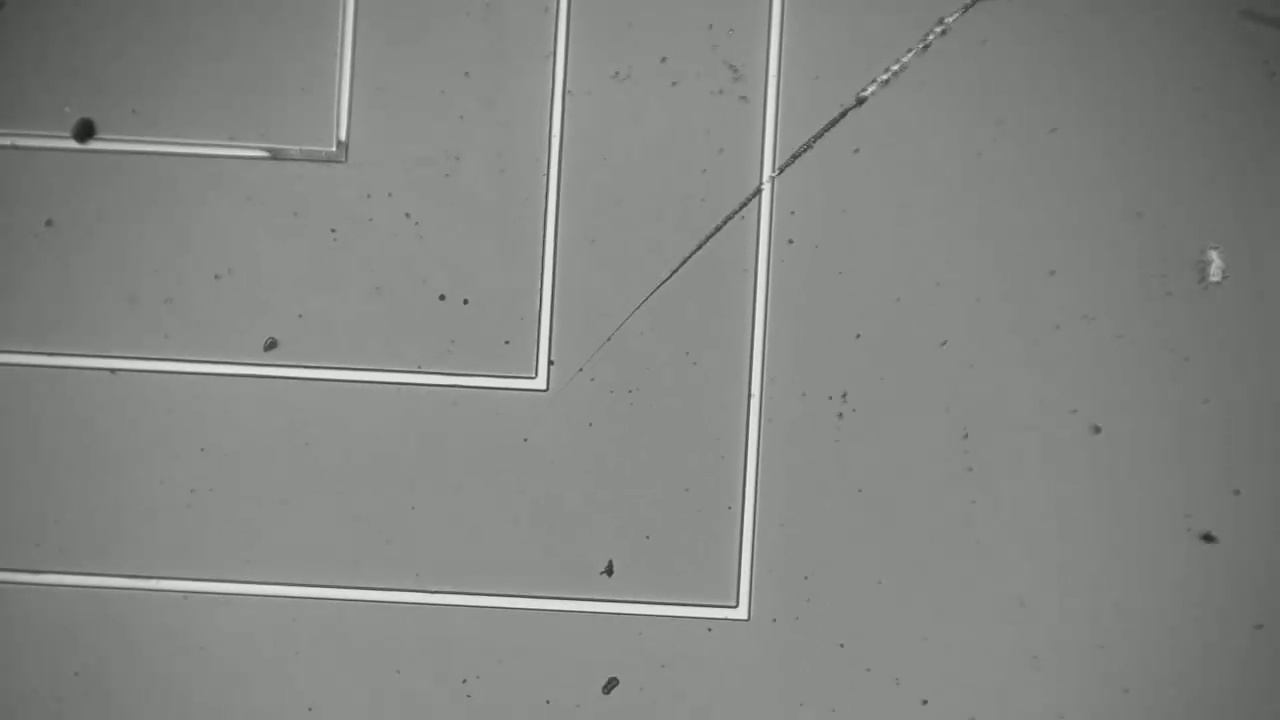gray_line: (252, 137, 364, 170), (326, 117, 361, 175)
scratch: (572, 1, 987, 384)
stains_enbedded: (58, 103, 108, 160)
